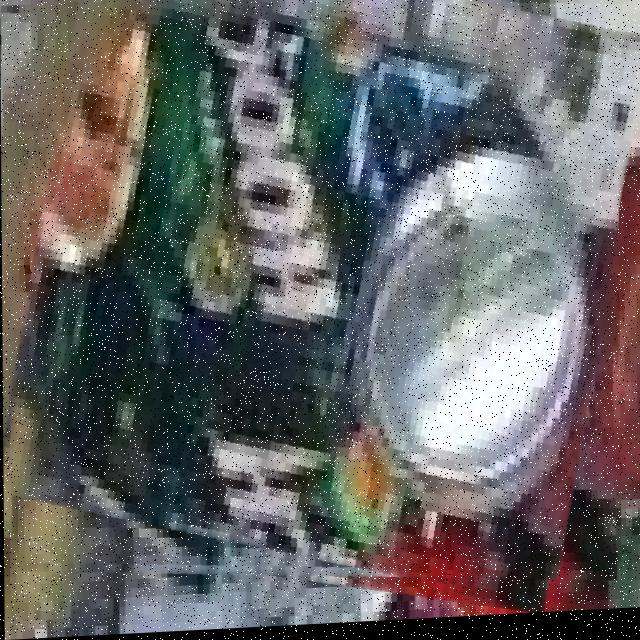can: (9, 0, 618, 585)
